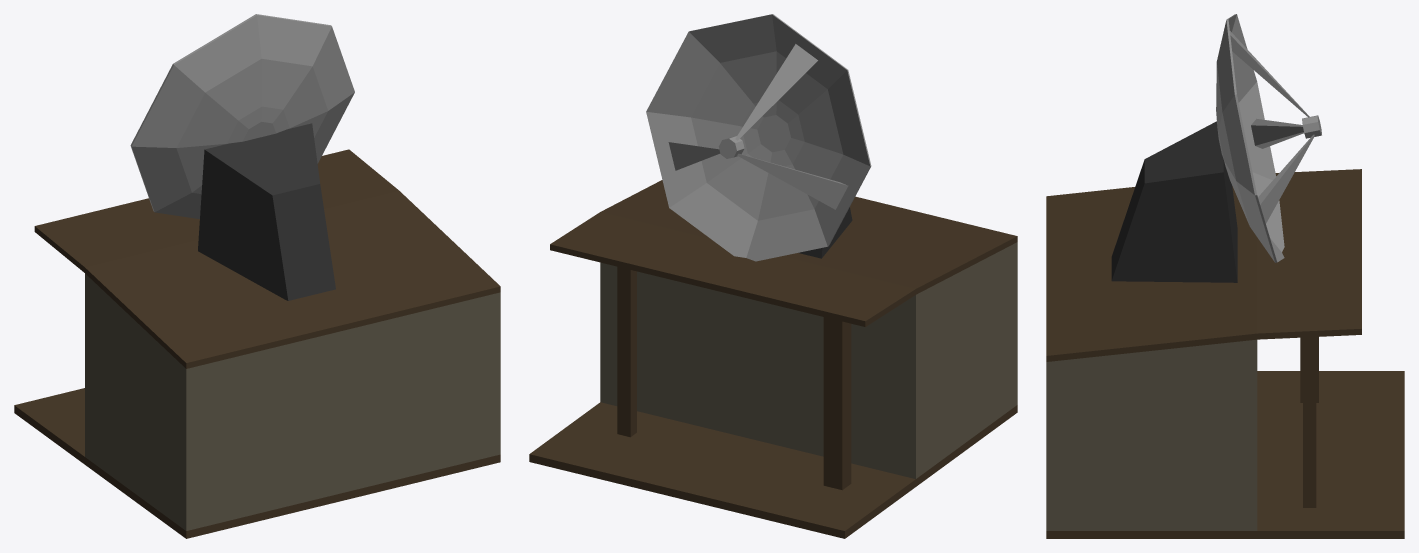
The model's file is Runch.fbx.
3 views of the same model, side by side, from view 1: azimuth 30°, elevation 25°; view 2: azimuth 150°, elevation 25°; view 3: azimuth 270°, elevation 25° (orthographic). The views are drawn at different scales.
Visible parts, largest first — view 1: Cube.001, Circle, Cube; view 2: Cube.001, Circle; view 3: Cube.001, Cube, Circle.
Boxes of the visible parts, x1,y1,x2,y2 form: Cube.001: (14, 149, 500, 538); Circle: (130, 14, 354, 218); Cube: (198, 123, 335, 300); Cube.001: (529, 180, 1017, 538); Circle: (646, 14, 871, 261); Cube.001: (1046, 169, 1404, 538); Cube: (1111, 121, 1237, 282); Circle: (1216, 14, 1321, 262).
Size of the model in its own units: 584 by 750 by 553.
